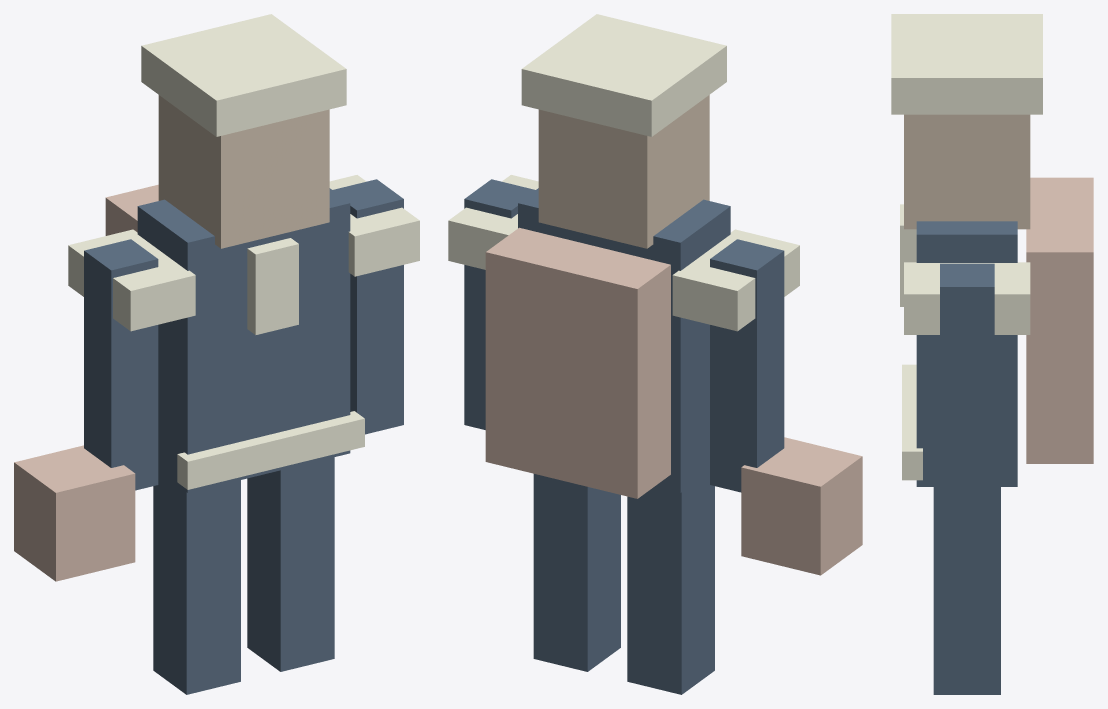
The model's file is 19_asha_ironwake_scout_from_resource.glb.
3 renders of one model, left to right at view 1: azimuth 30°, elevation 25°; view 2: azimuth 150°, elevation 25°; view 3: azimuth 270°, elevation 25°, orthographic.
Parts seen in each view (by area): view 1: Asha Ironwake, Scout from Resource; view 2: Asha Ironwake, Scout from Resource; view 3: Asha Ironwake, Scout from Resource.
Part boxes in pixels (x1,y1,x2,y2): Asha Ironwake, Scout from Resource: (14, 14, 419, 694); Asha Ironwake, Scout from Resource: (448, 14, 862, 694); Asha Ironwake, Scout from Resource: (891, 14, 1093, 694).
Size of the model in its own units: 0.9738 by 1.57 by 0.4698.
